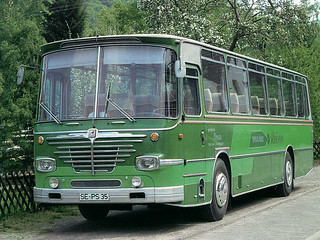bus: (32, 33, 314, 221)
